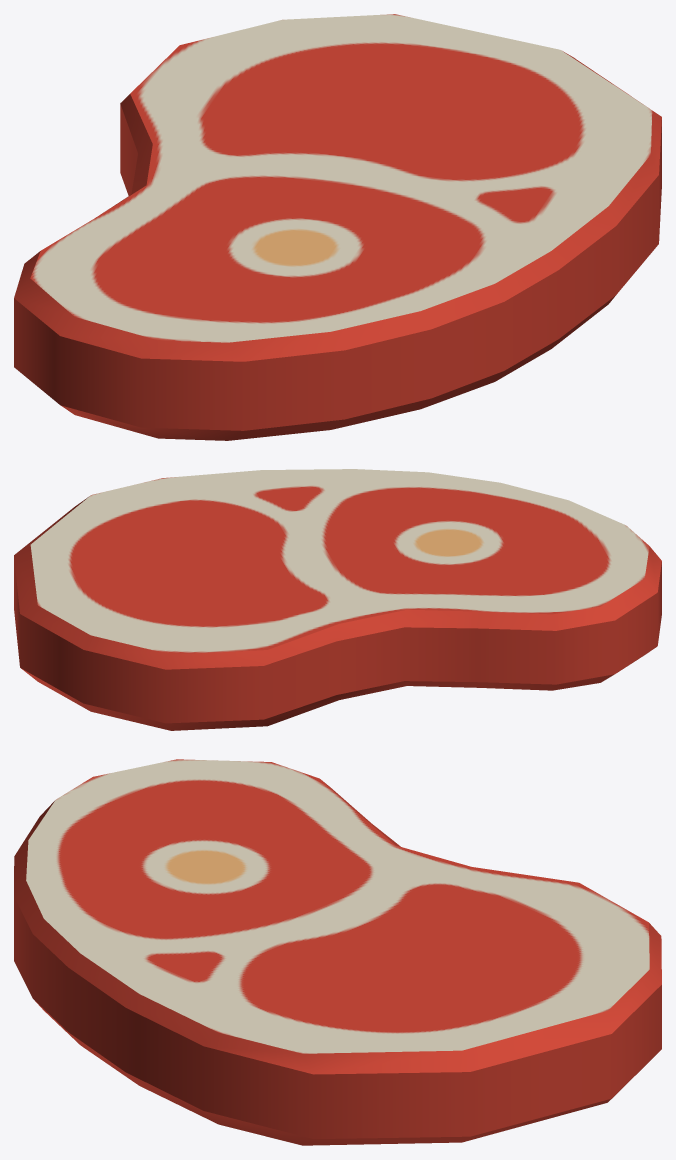
Rendered from Beef_Meat_01.fbx.
3 renders of one model, top to bottom at view 1: azimuth 30°, elevation 25°; view 2: azimuth 150°, elevation 25°; view 3: azimuth 270°, elevation 25°, orthographic. The views are drawn at different scales.
Parts seen in each view (by area): view 1: Beef_Meat_01; view 2: Beef_Meat_01; view 3: Beef_Meat_01.
Part boxes in pixels (x1,y1,x2,y2): Beef_Meat_01: (14,14,661,440); Beef_Meat_01: (14,469,661,730); Beef_Meat_01: (14,759,661,1145).
Bounding box in the file's own units: 48.92 × 6.79 × 43.39.
